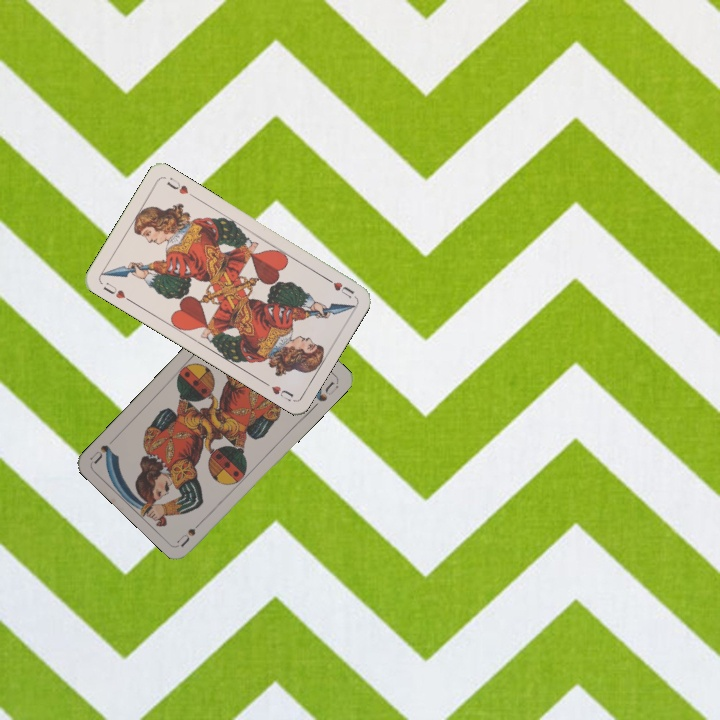HU: (321, 273, 357, 301), (99, 278, 134, 304)
SU: (174, 514, 208, 549)
